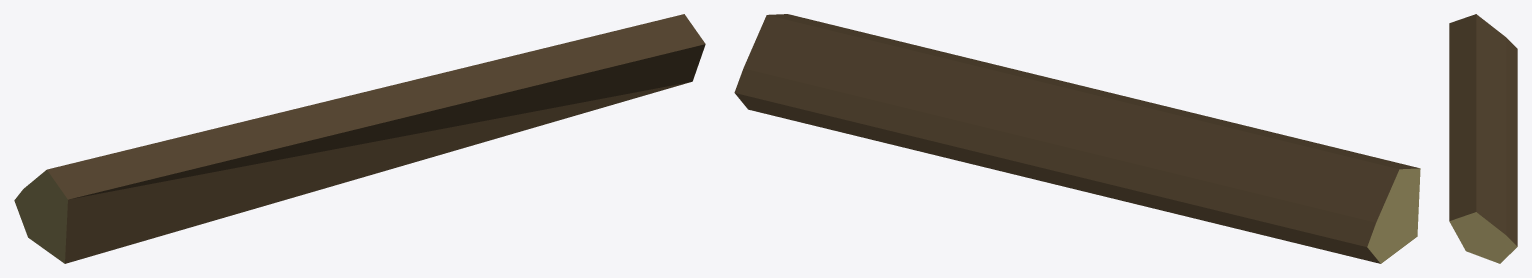
The picture shows the model from 3 angles, left to right: view 1: azimuth 30°, elevation 25°; view 2: azimuth 150°, elevation 25°; view 3: azimuth 270°, elevation 25°; orthographic projection. The views are drawn at different scales.
Parts seen in each view (by area): view 1: 木材_pCylinder50; view 2: 木材_pCylinder50; view 3: 木材_pCylinder50.
Part boxes in pixels (x1,y1,x2,y2): 木材_pCylinder50: (14,14,705,263); 木材_pCylinder50: (734,14,1420,263); 木材_pCylinder50: (1449,14,1517,263).
Size of the model in its own units: 454 by 55.55 by 66.22.
